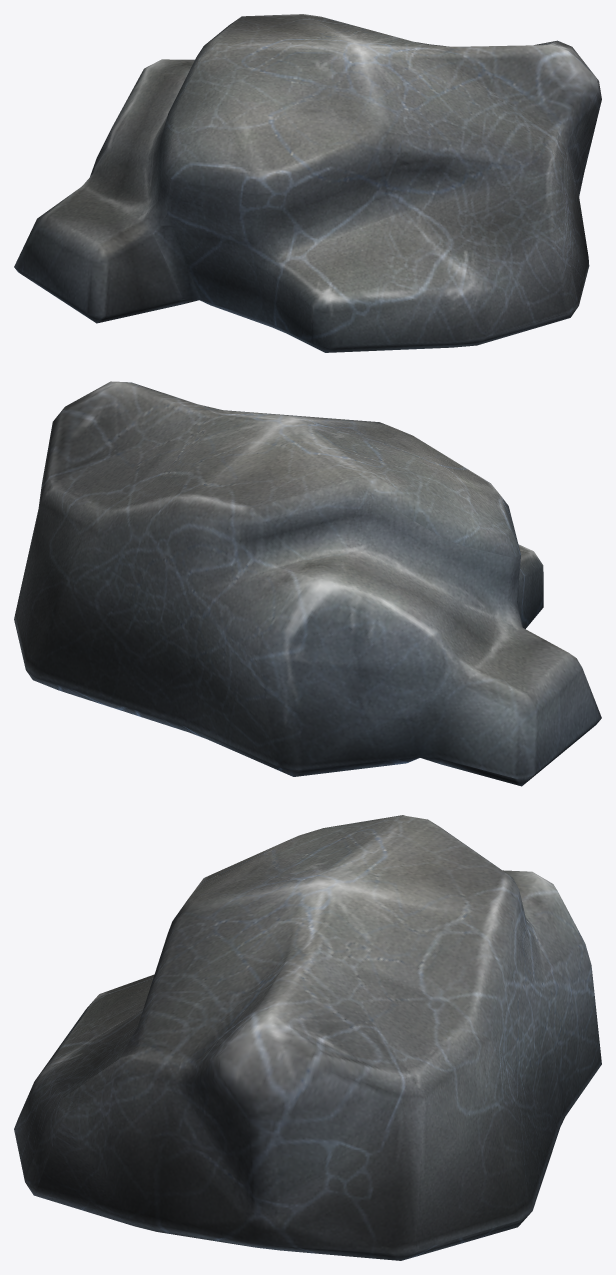
File: Track_rock_03.fbx
3 views of the same model, one above another, from view 1: azimuth 30°, elevation 25°; view 2: azimuth 150°, elevation 25°; view 3: azimuth 270°, elevation 25° (orthographic). The views are drawn at different scales.
Visible parts, largest first — view 1: Track_rock_03; view 2: Track_rock_03; view 3: Track_rock_03.
Boxes of the visible parts, x1,y1,x2,y2 form: Track_rock_03: (14,14,601,352); Track_rock_03: (14,381,601,786); Track_rock_03: (14,815,601,1260).
Bounding box in the file's own units: 51.52 × 20.83 × 42.9.
